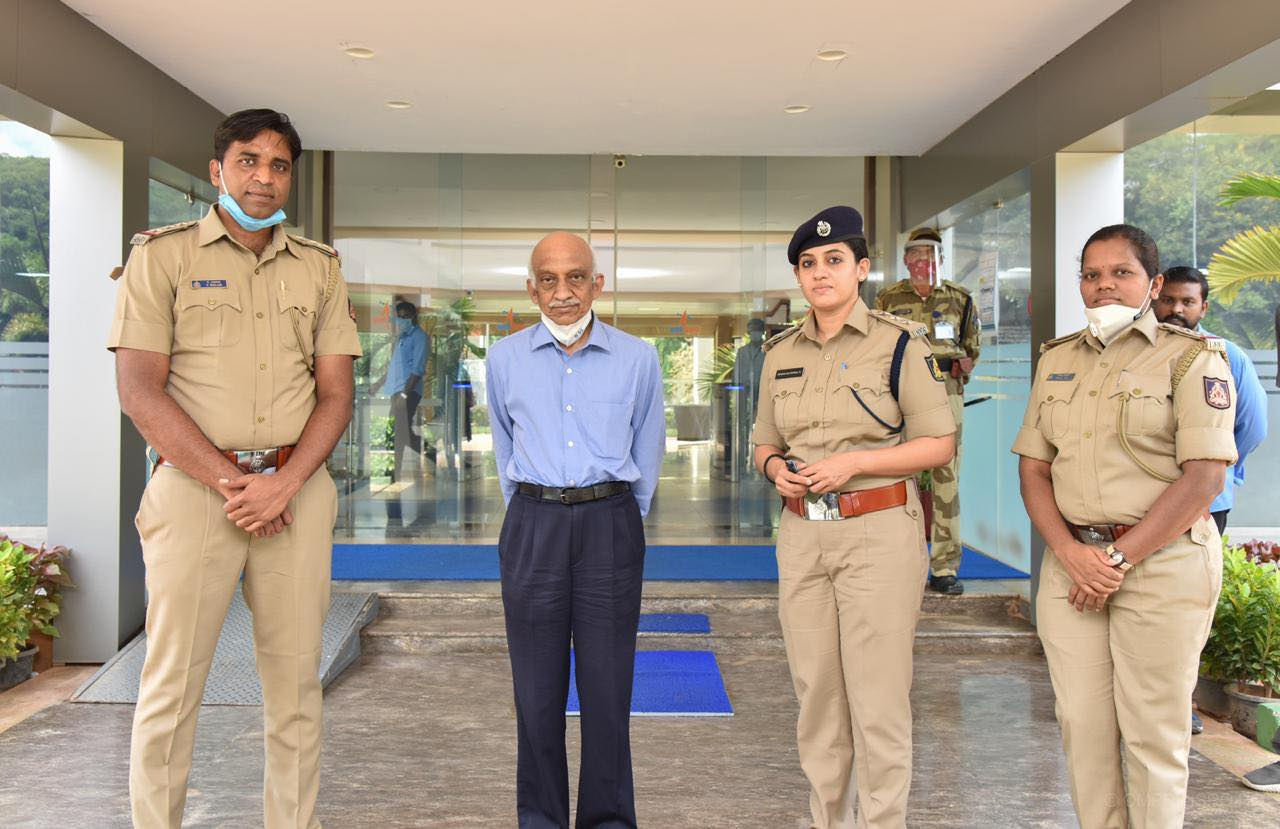mouth: (243, 188, 273, 203), (1089, 295, 1122, 306), (809, 285, 832, 295), (551, 305, 575, 314)
nose: (249, 173, 274, 186), (551, 292, 571, 302), (1093, 282, 1113, 292), (810, 274, 827, 282)
